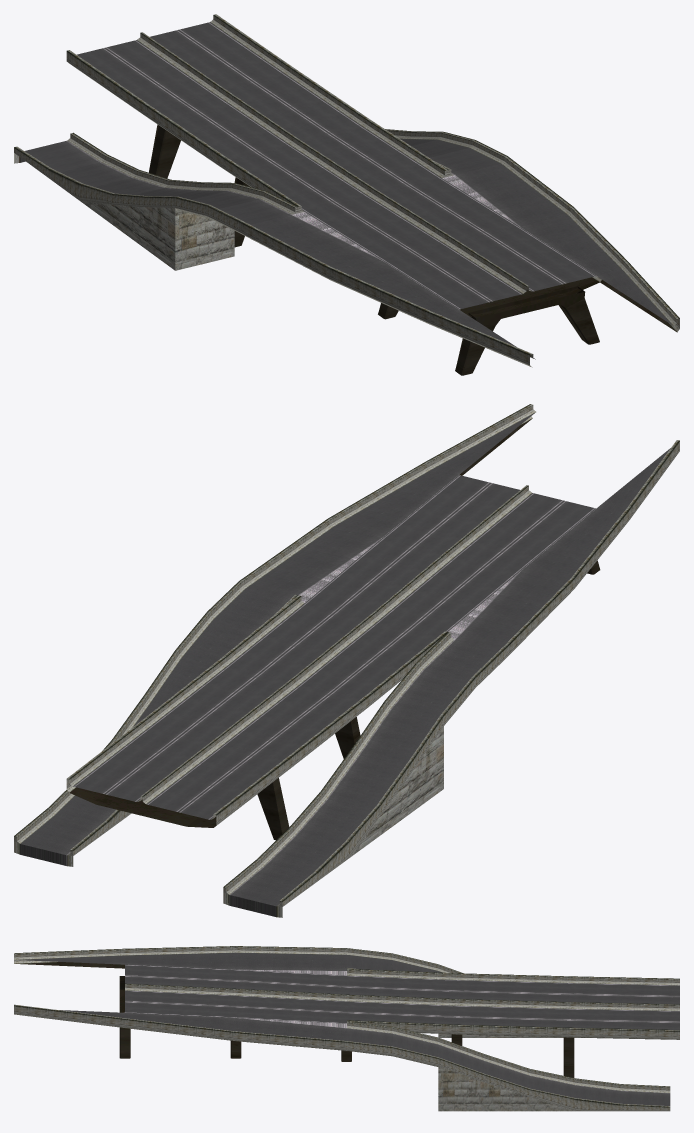
The model's file is roadssfse28.obj.
3 renders of one model, top to bottom at view 1: azimuth 30°, elevation 25°; view 2: azimuth 150°, elevation 25°; view 3: azimuth 270°, elevation 25°, orthographic. The views are drawn at different scales.
Parts seen in each view (by area): view 1: roadsSFSE28; view 2: roadsSFSE28; view 3: roadsSFSE28.
Boxes of the visible parts, x1,y1,x2,y2 form: roadsSFSE28: [14, 14, 679, 375]; roadsSFSE28: [14, 404, 679, 917]; roadsSFSE28: [14, 946, 679, 1111].
Bounding box in the file's own units: 50.43 × 23.22 × 151.
Materials: 3 (3 with a texture image).
